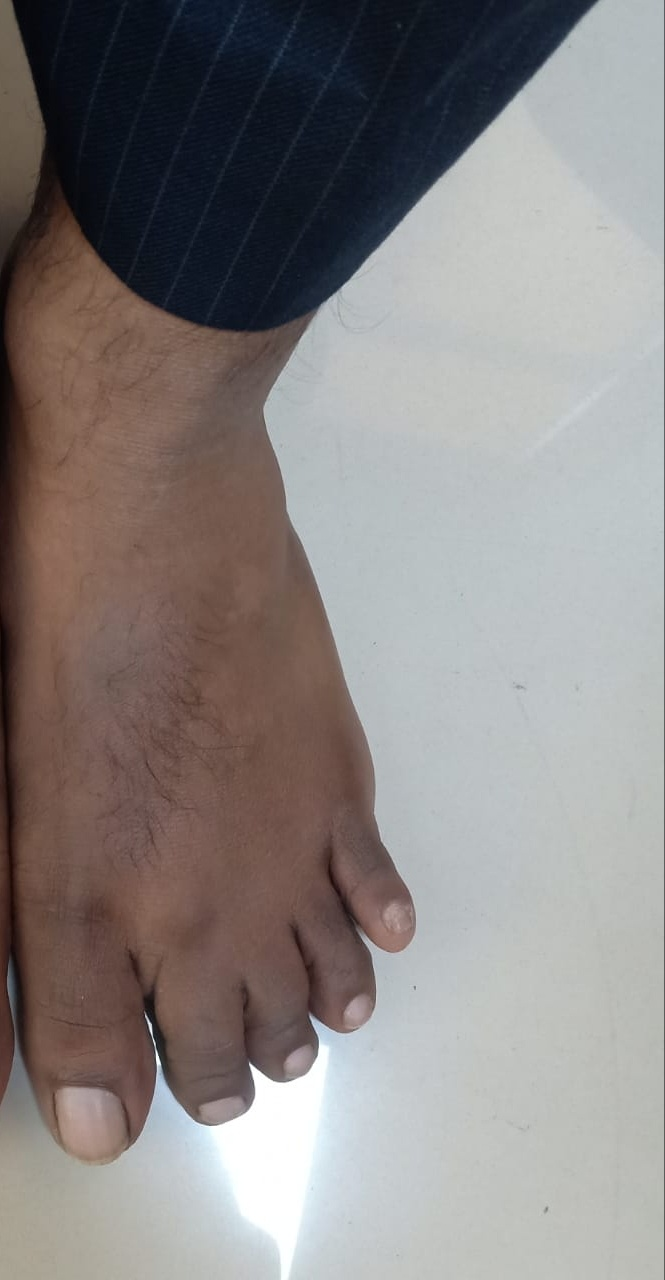feet: (30, 174, 418, 1167)
